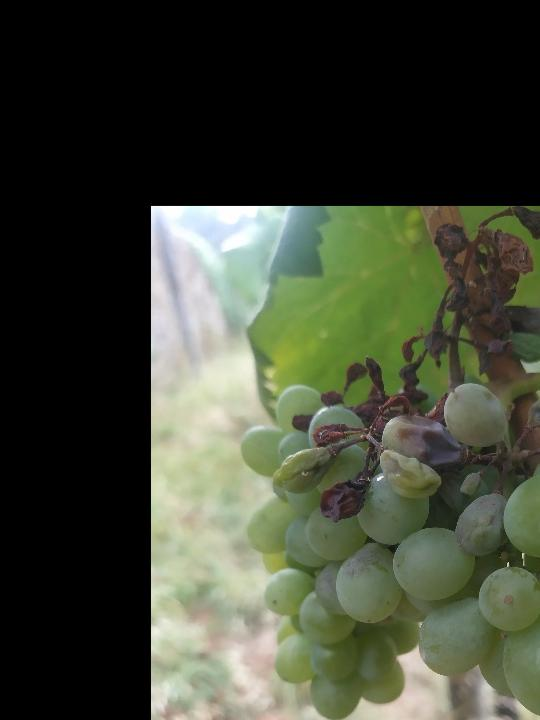grape: (236, 206, 540, 720)
